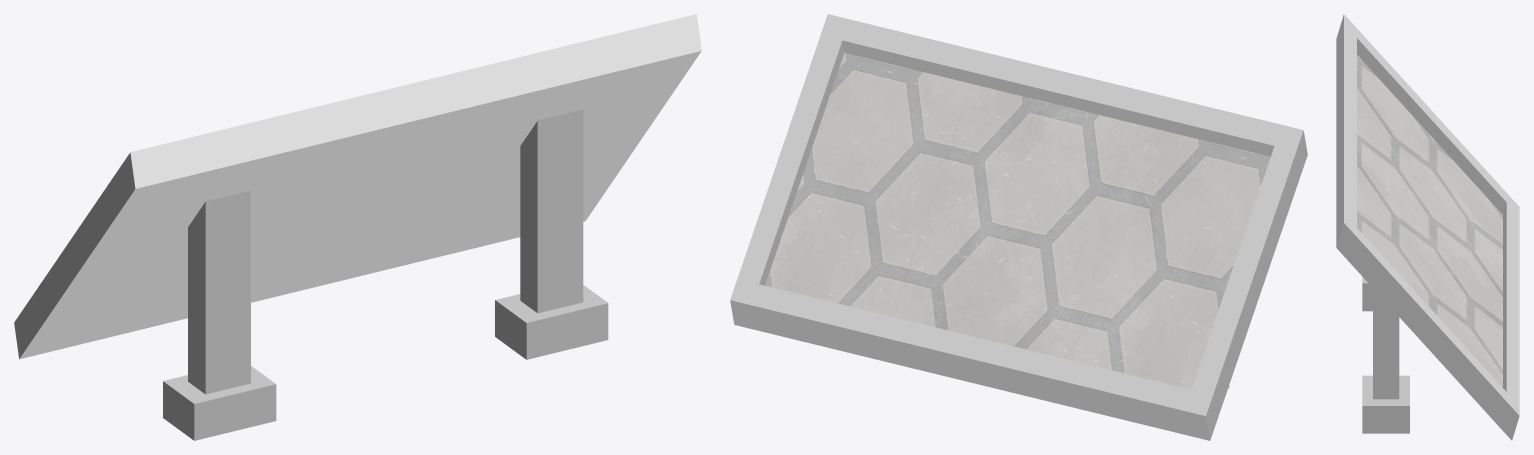
The model's file is SolarPanBig.obj.
3 views of the same model, side by side, from view 1: azimuth 30°, elevation 25°; view 2: azimuth 150°, elevation 25°; view 3: azimuth 270°, elevation 25° (orthographic). The views are drawn at different scales.
Bounding box in the file's own units: 1.35 × 0.7204 × 0.5007.
